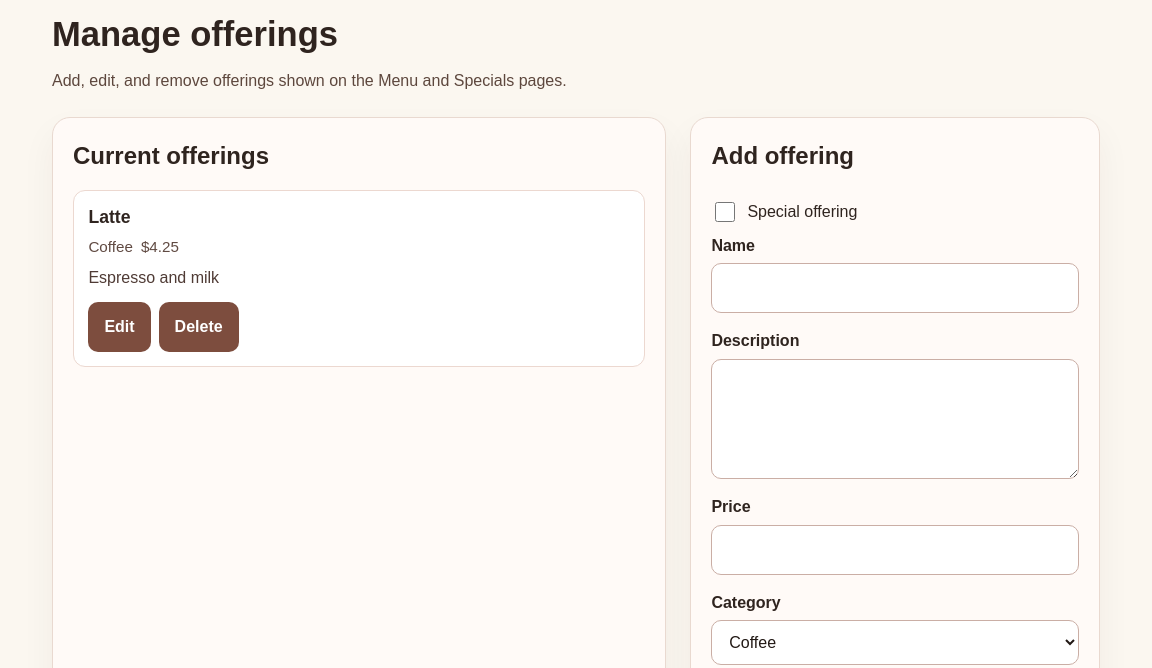
Test case: edits the selected offering and sends its persisted identity
The image size is (1152, 668).
Step 1. Click the button with aria-label "Edit Latte" → (120, 327), box left=88, top=302, right=151, bottom=352
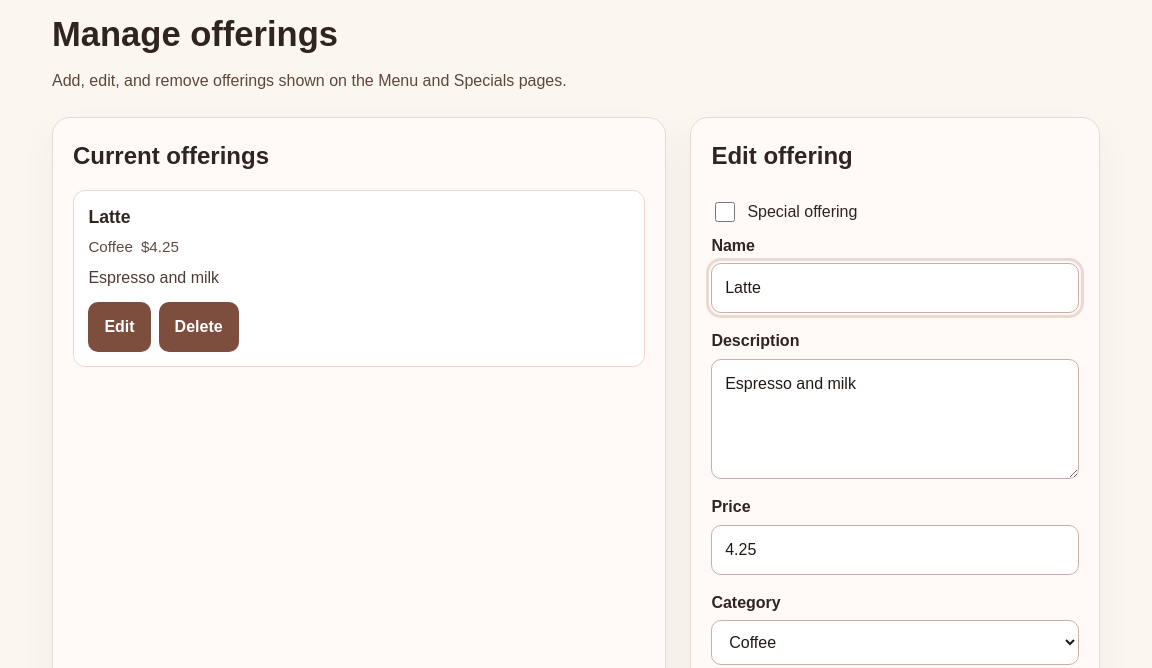
Result: the field labelled "Name" holds "Latte"
Step 2. Replace the text in the field labelled "Name" with "Oat latte" → (895, 288), box left=711, top=263, right=1079, bottom=313
(page scrolled)
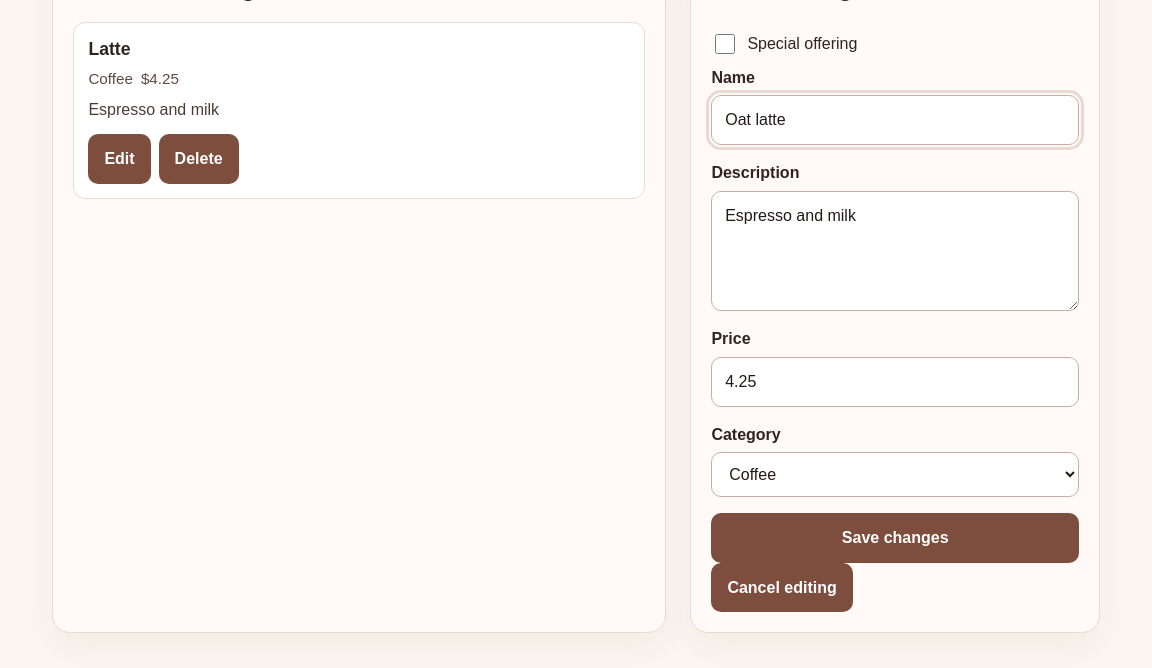
Step 3. Click the button "Save changes" → (895, 538), box left=711, top=513, right=1079, bottom=563
(page scrolled)
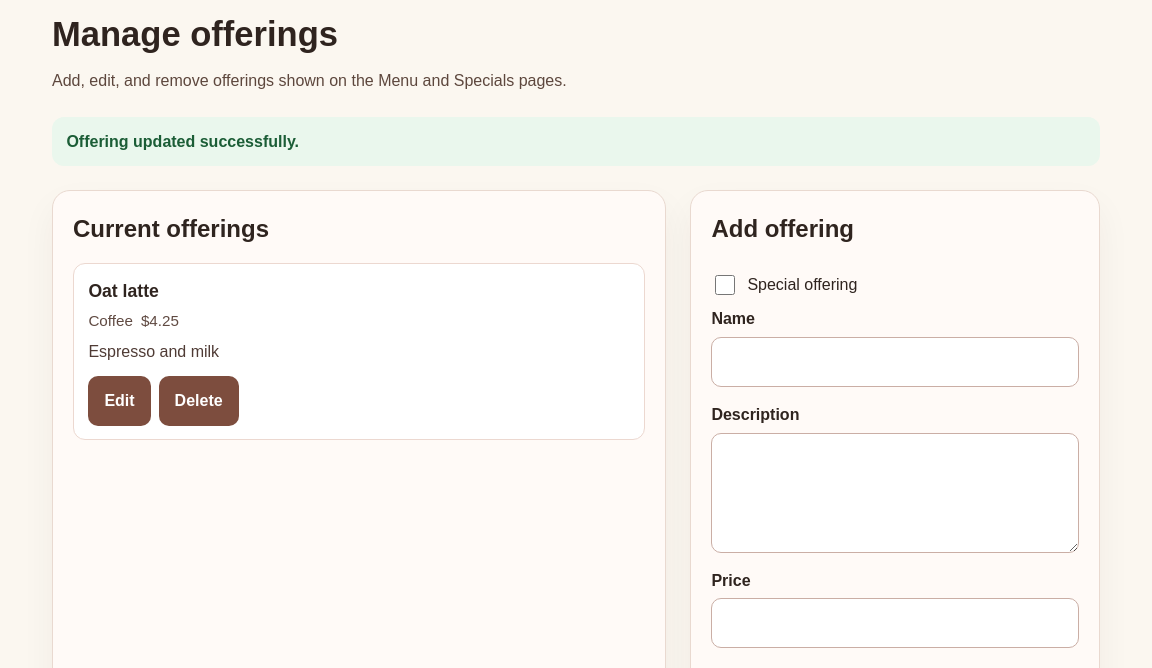
Result: the text "Offering updated successfully." is shown at left=52, top=117, right=1100, bottom=166
